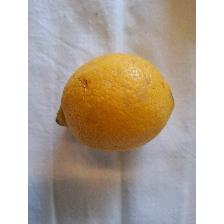Zitrone: (50, 48, 177, 156)
